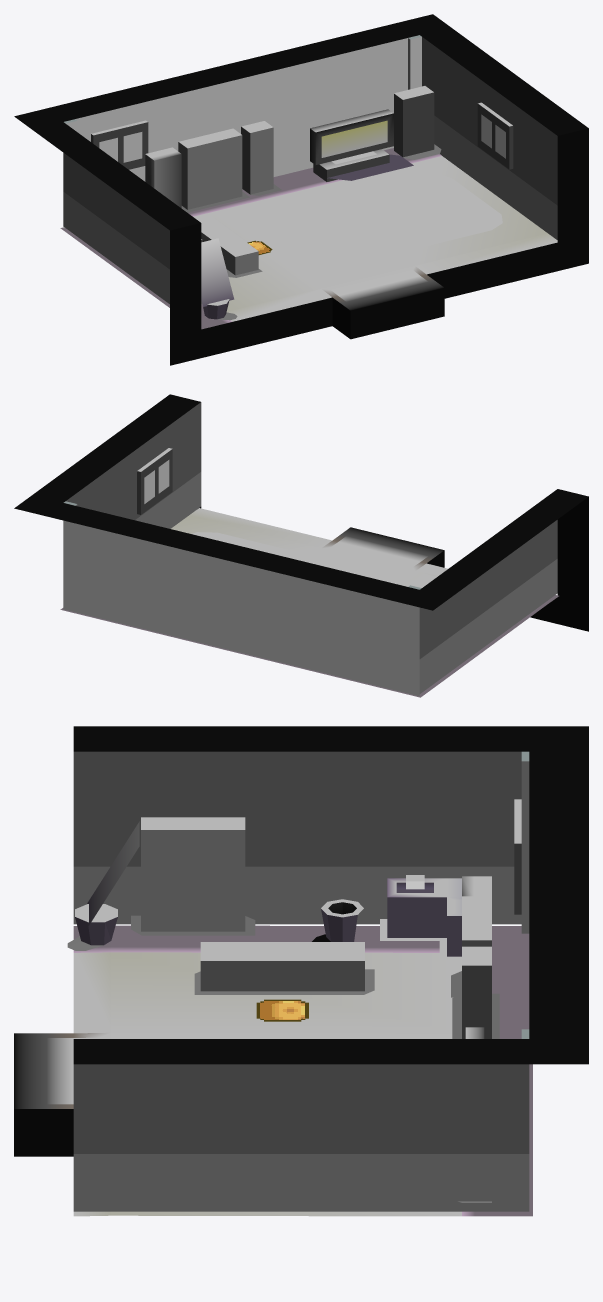
The model's file is black_city_house_1.obj.
The picture shows the model from 3 angles, top to bottom: view 1: azimuth 30°, elevation 25°; view 2: azimuth 150°, elevation 25°; view 3: azimuth 270°, elevation 25°; orthographic projection. The views are drawn at different scales.
Size of the model in its own units: 278 by 85.8 by 200.
